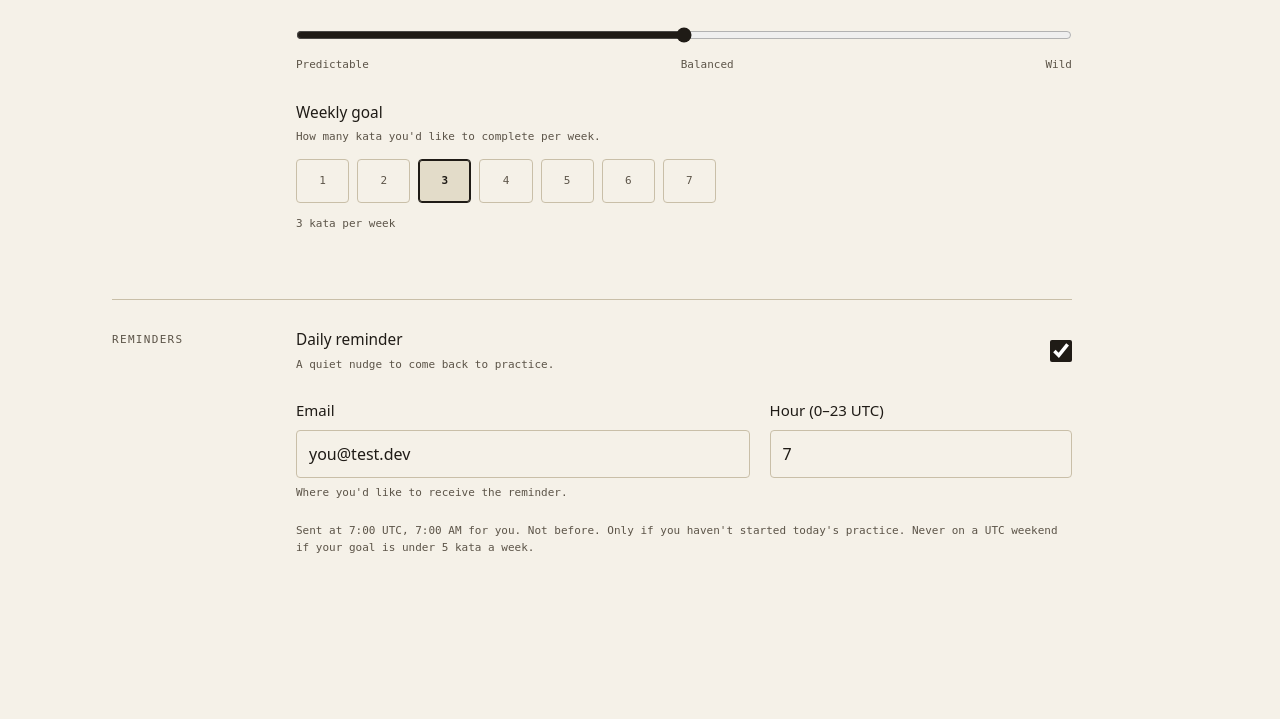
it: SettingsPage › reminder fields › flags a partial email instead of saving it
The width and height of the screenshot is (1280, 719).
(page scrolled)
Replace the text in the field labelled "Email" with "new@". click: (523, 454)
box: x1=296 y1=430 x2=750 y2=478
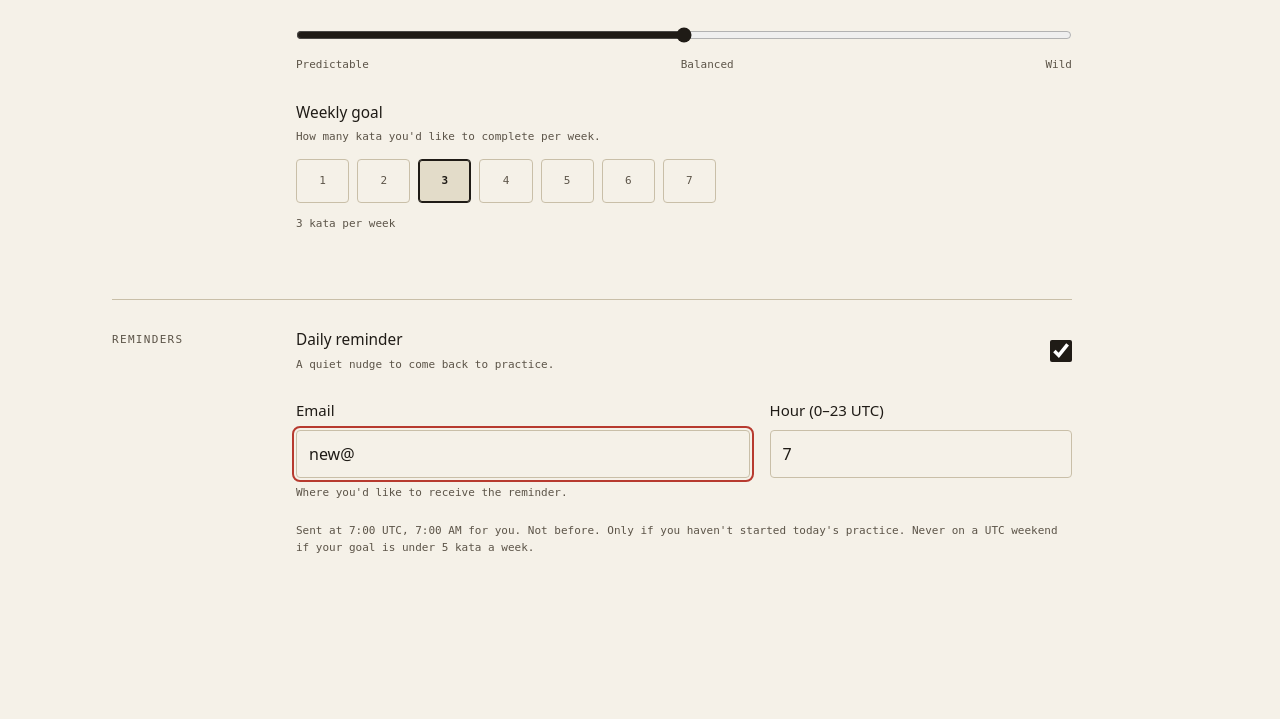
Press Tab
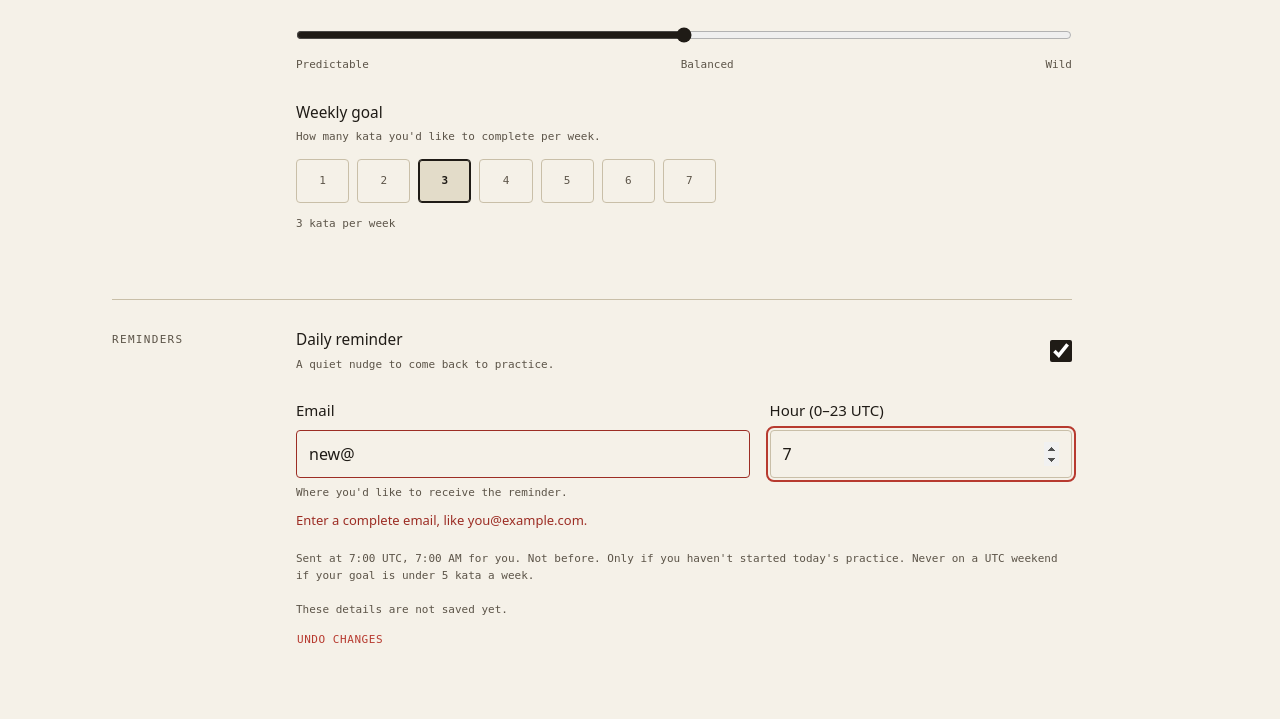
Check: the text "Enter a complete email, like you@example.com." is shown, box x1=296 y1=511 x2=587 y2=529
